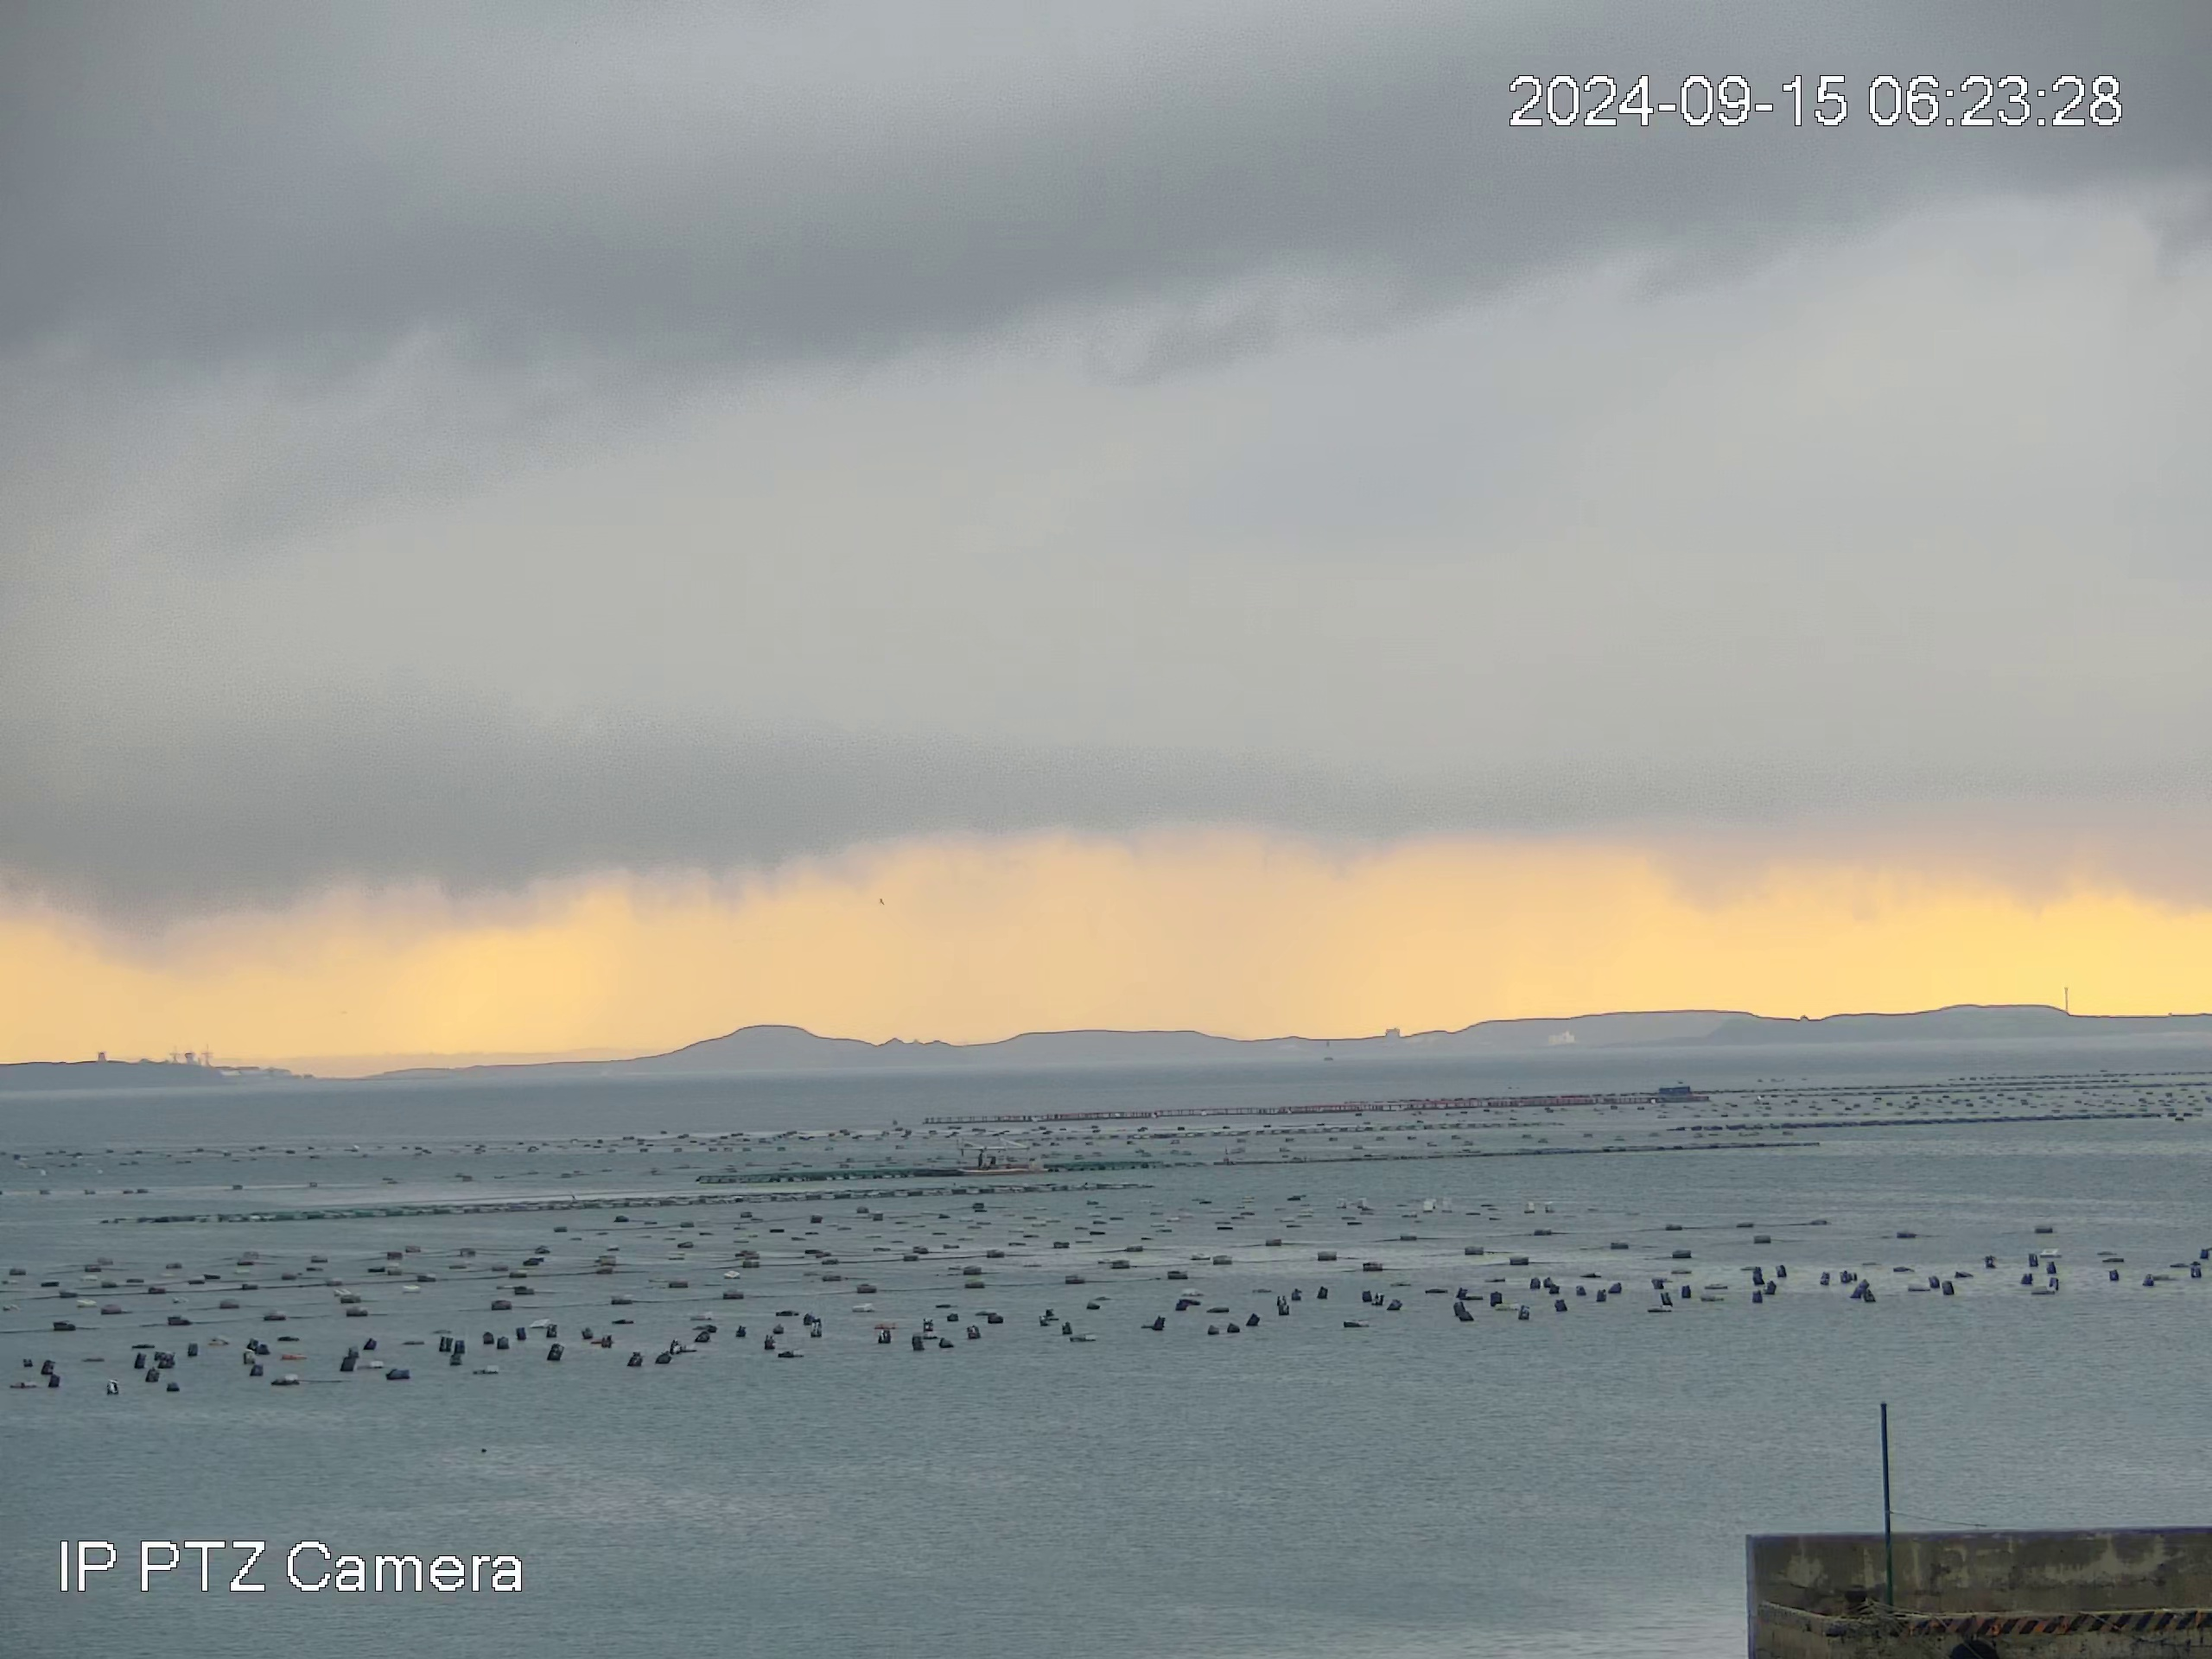boat: (961, 1138, 1047, 1176)
